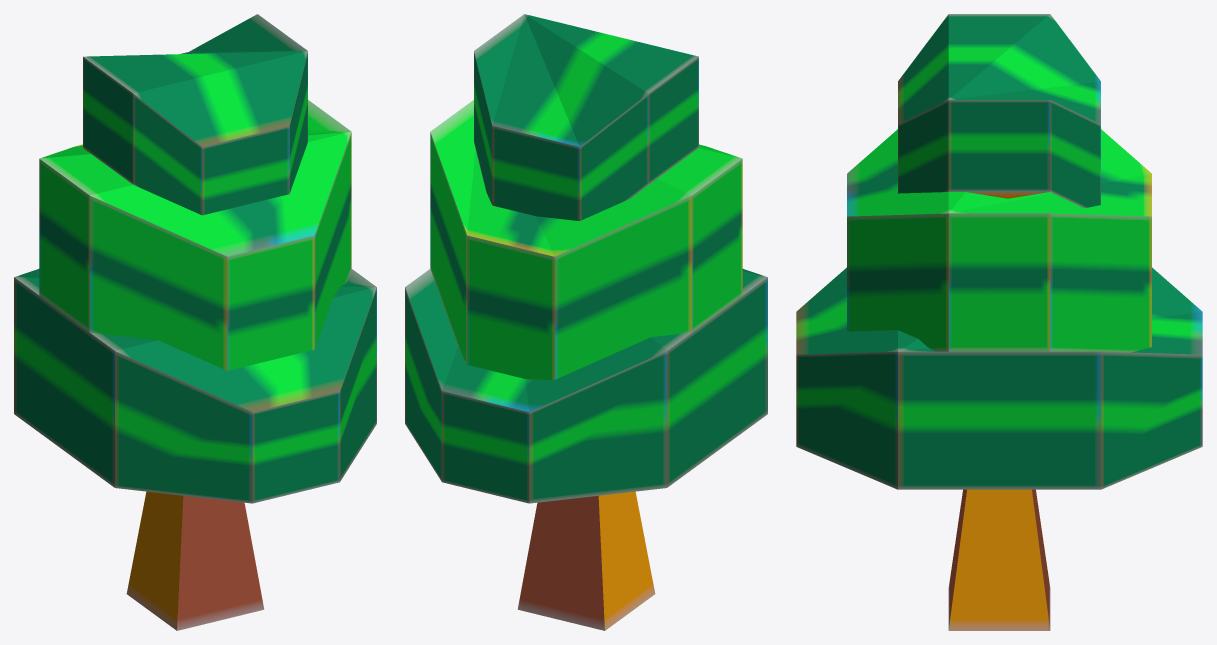
The model's file is tree-2.gltf.
3 views of the same model, side by side, from view 1: azimuth 30°, elevation 25°; view 2: azimuth 150°, elevation 25°; view 3: azimuth 270°, elevation 25° (orthographic).
Bounding box in the file's own units: 1.5 × 3 × 2.
1 material, 1 textured.
